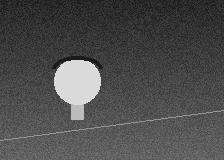no_helmet: (54, 56, 100, 109)
